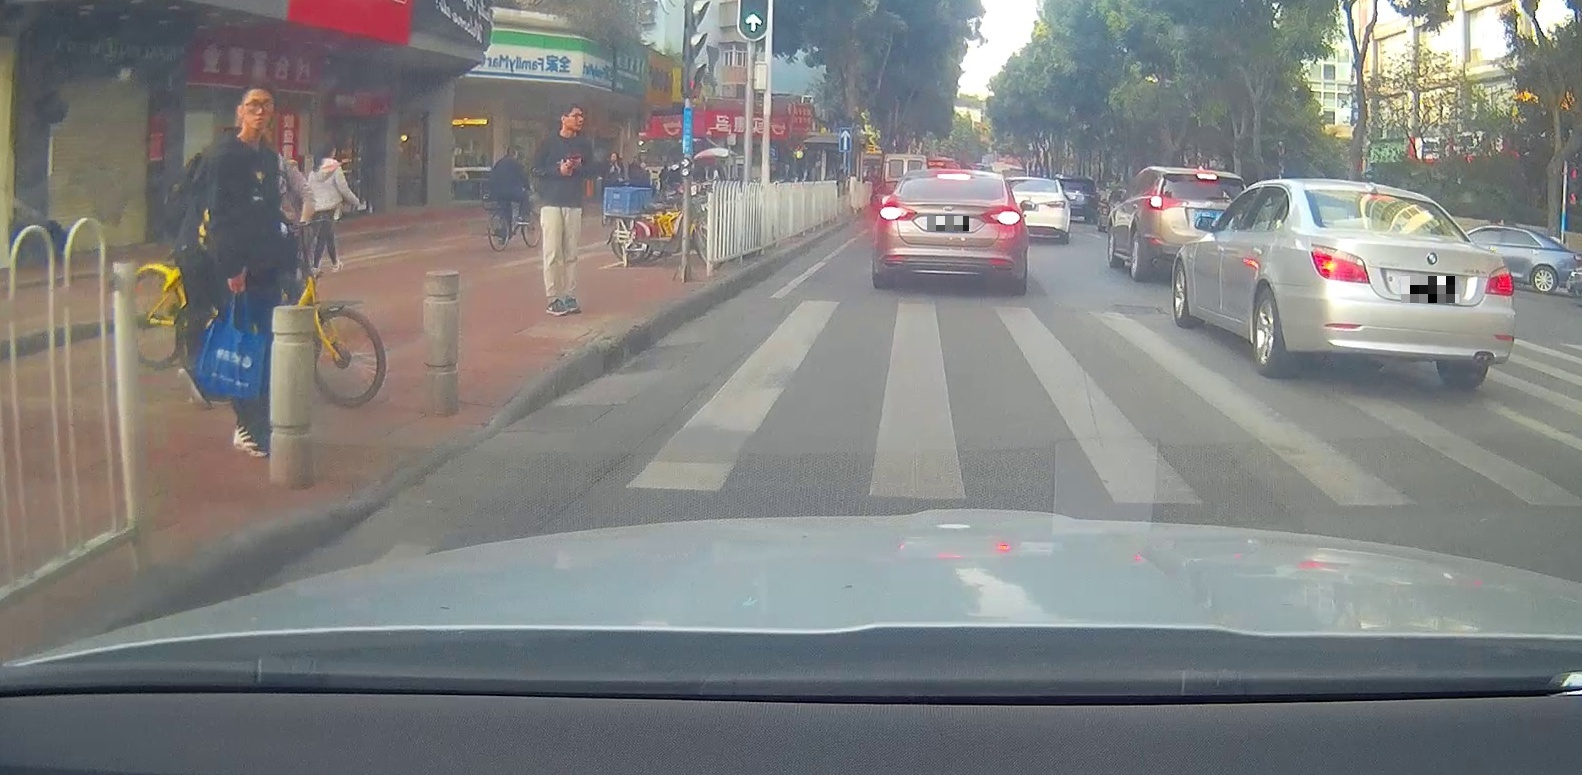L_light: (1308, 243, 1371, 284), (878, 202, 917, 220)
R_light: (1484, 265, 1514, 297), (990, 209, 1021, 225)
T_light: (936, 174, 971, 180), (1368, 193, 1390, 201)
day-brake: (873, 168, 1028, 294)
day-left: (1299, 178, 1516, 387)
plate_1: (927, 216, 969, 231)
plate_2: (1401, 276, 1459, 303)
